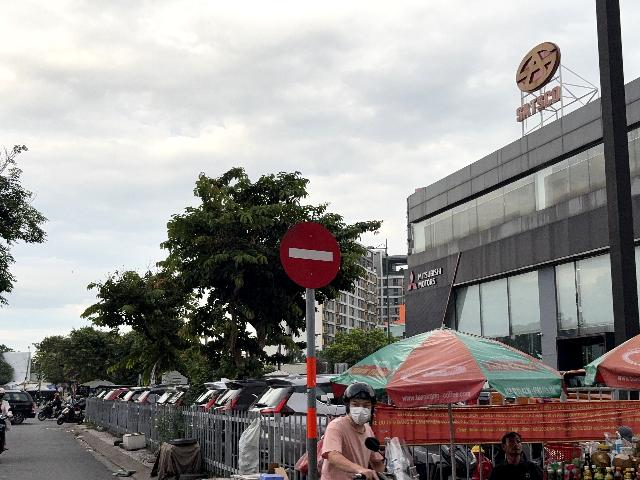cam-di-nguoc-chieu: (280, 222, 342, 289)
